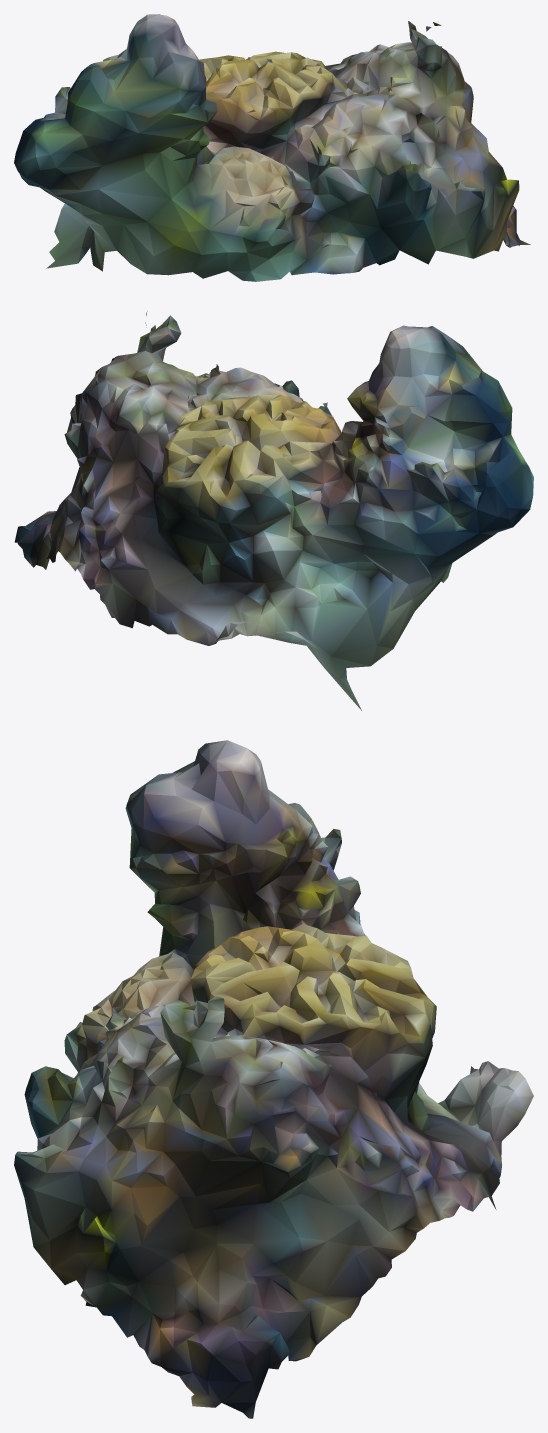
File: brain1.glb
The picture shows the model from 3 angles, top to bottom: view 1: azimuth 30°, elevation 25°; view 2: azimuth 150°, elevation 25°; view 3: azimuth 270°, elevation 25°; orthographic projection. The views are drawn at different scales.
Visible parts, largest first — view 1: brain1; view 2: brain1; view 3: brain1.
Boxes of the visible parts, box(x1,y1,x2,y2) form: brain1: box(14, 14, 530, 281); brain1: box(14, 311, 533, 710); brain1: box(14, 740, 533, 1418).
Bounding box in the file's own units: 1.38 × 0.858 × 0.933.
